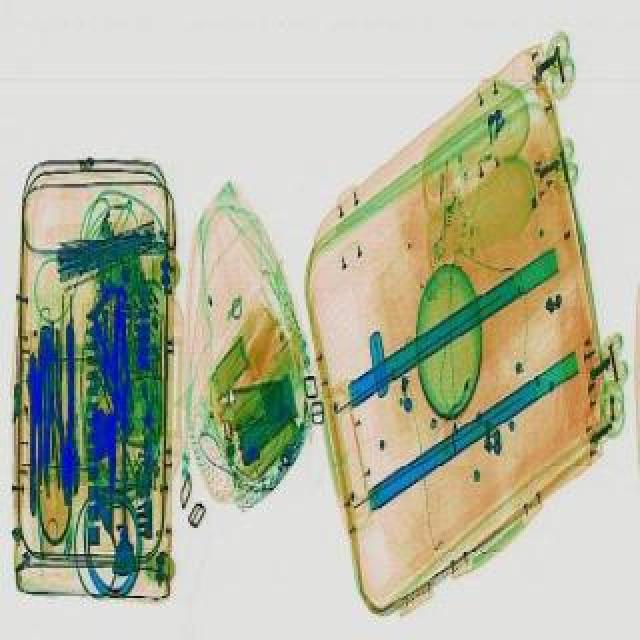scissors: (60, 322, 80, 504)
